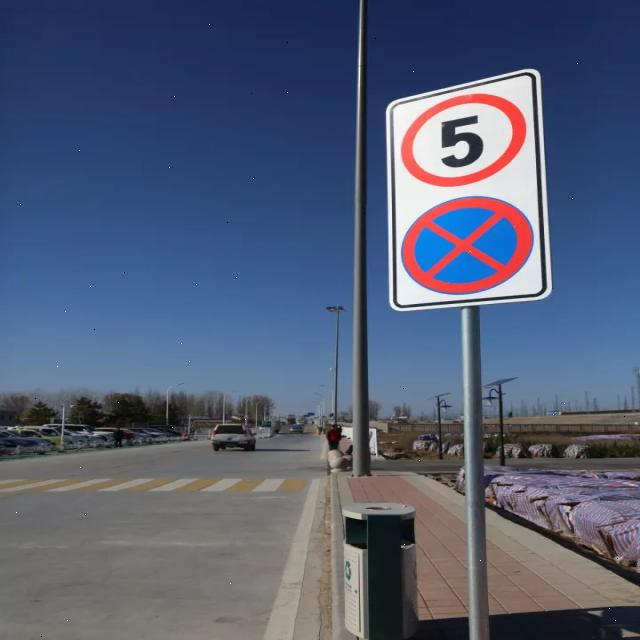speed limit 10: (397, 94, 526, 187)
